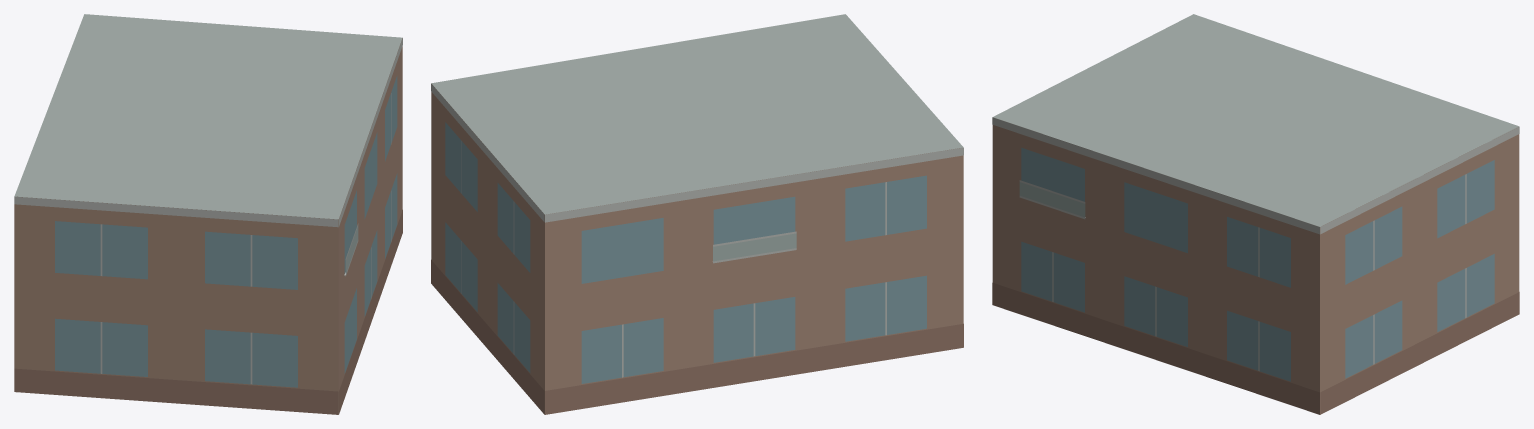
Rendered from survey-upis-32587290.glb.
3 renders of one model, left to right at view 1: azimuth 30°, elevation 25°; view 2: azimuth 150°, elevation 25°; view 3: azimuth 270°, elevation 25°, orthographic. The views are drawn at different scales.
Visible parts, largest first — view 1: survey-upis-32587290.tmp; view 2: survey-upis-32587290.tmp; view 3: survey-upis-32587290.tmp.
Part boxes in pixels (x1,y1,x2,y2): survey-upis-32587290.tmp: (14, 14, 402, 414); survey-upis-32587290.tmp: (431, 14, 963, 414); survey-upis-32587290.tmp: (992, 14, 1519, 414).
Bounding box in the file's own units: 14.84 × 6.1 × 15.52.
